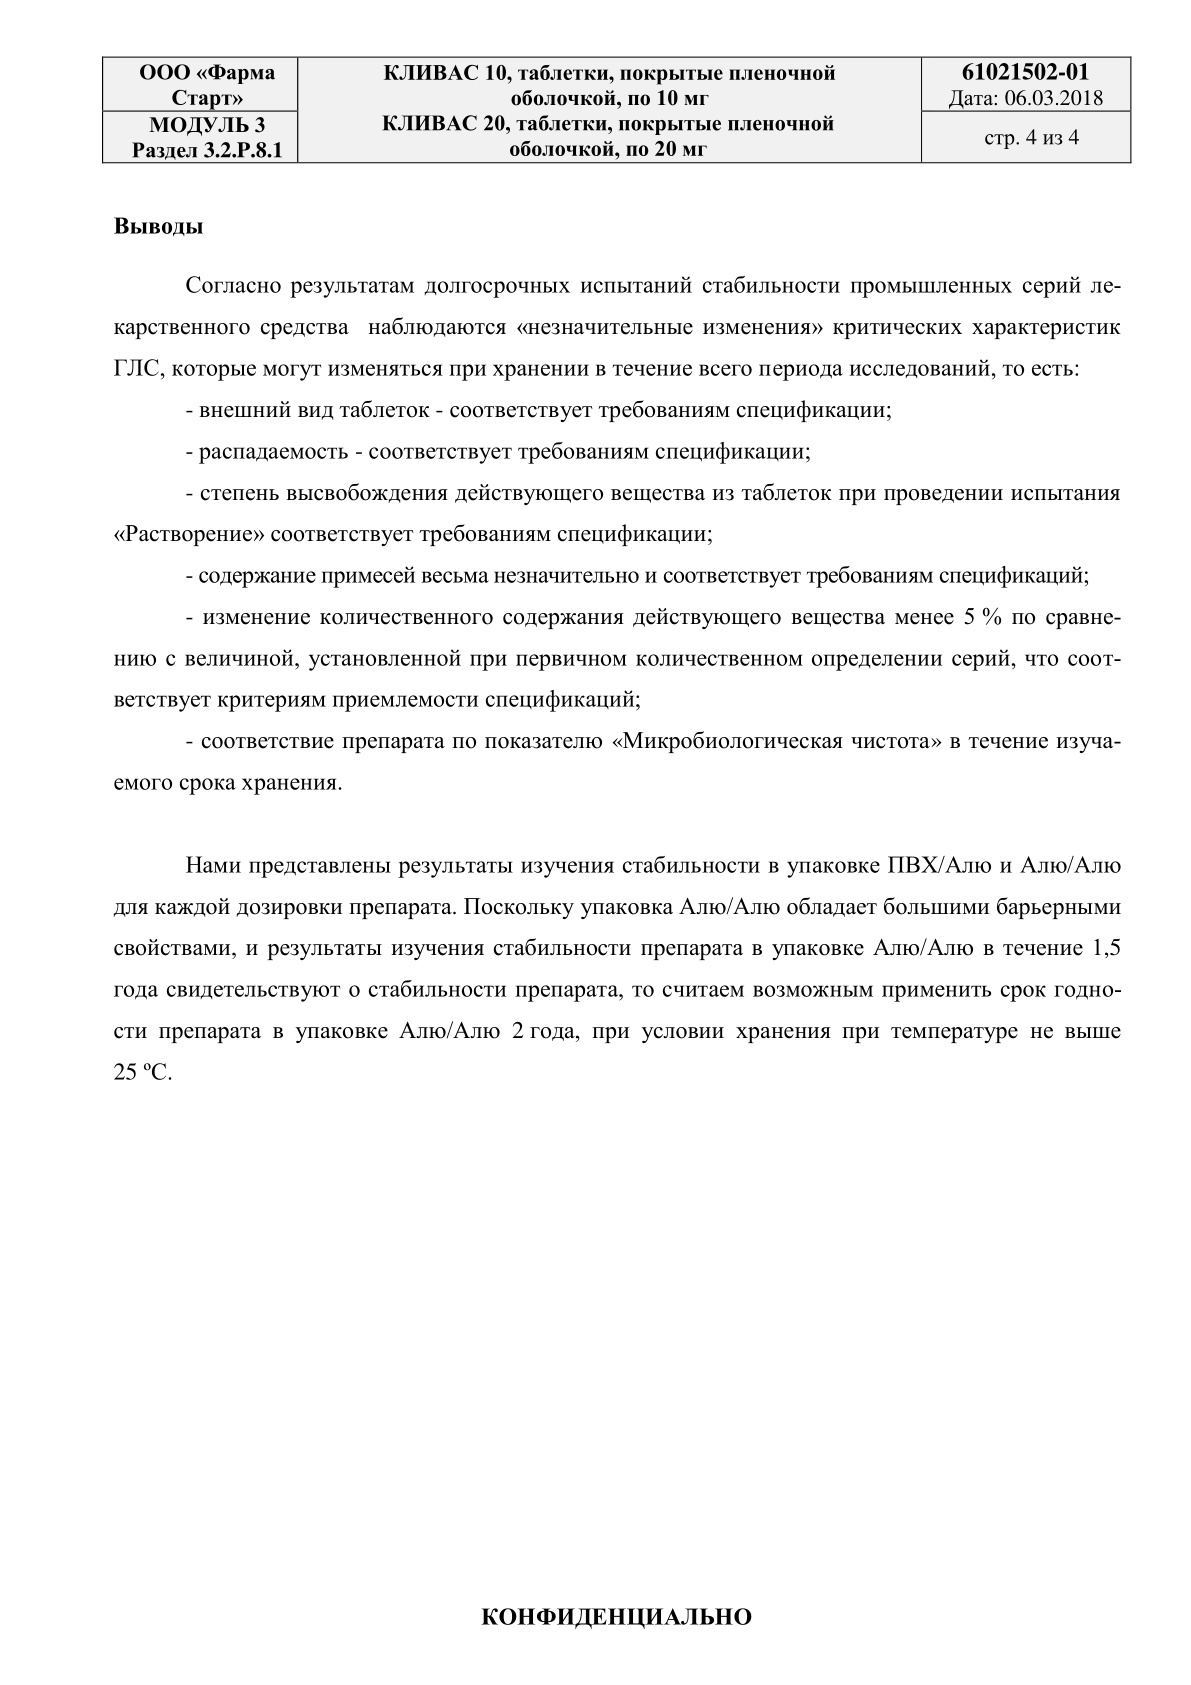merged_cells: (101, 55, 1132, 165)
